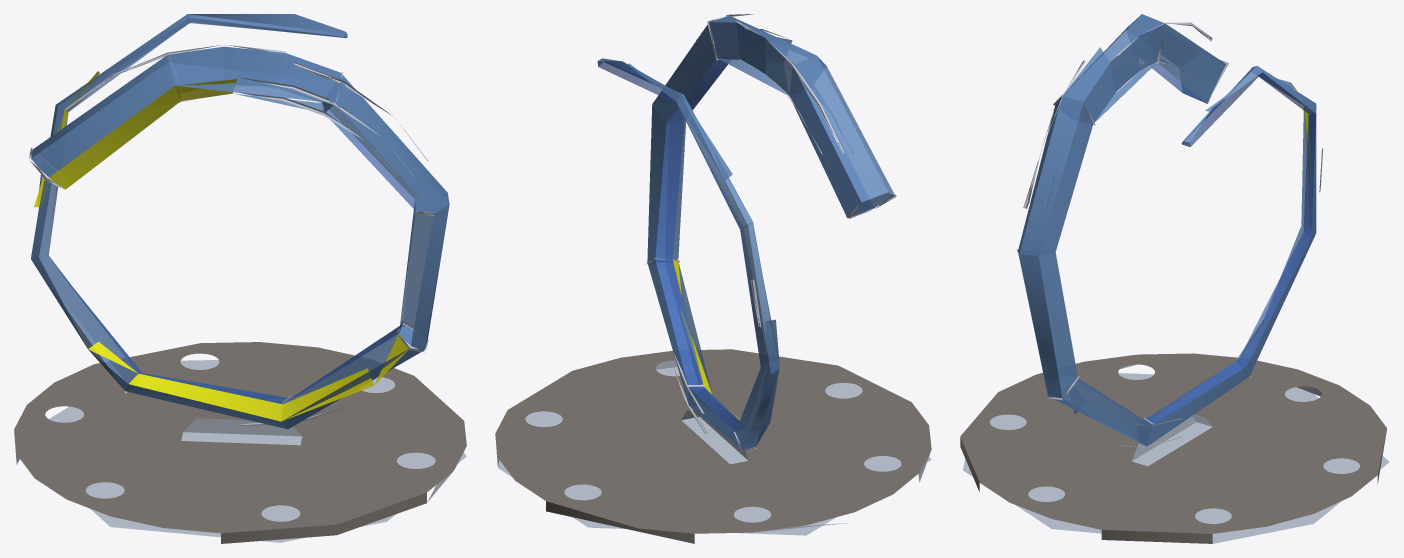
The model's file is public-sculpture.glb.
3 views of the same model, side by side, from view 1: azimuth 30°, elevation 25°; view 2: azimuth 150°, elevation 25°; view 3: azimuth 270°, elevation 25° (orthographic). The views are drawn at different scales.
Parts seen in each view (by area): view 1: LOD0; view 2: LOD0; view 3: LOD0.
Part boxes in pixels (box(x1,y1,x2,y2)): LOD0: box(14, 14, 466, 543); LOD0: box(495, 14, 931, 543); LOD0: box(960, 14, 1389, 543).
Size of what is drawn, in the model's own units: 6.06 by 6.29 by 6.07.
4 materials, 4 textured.
